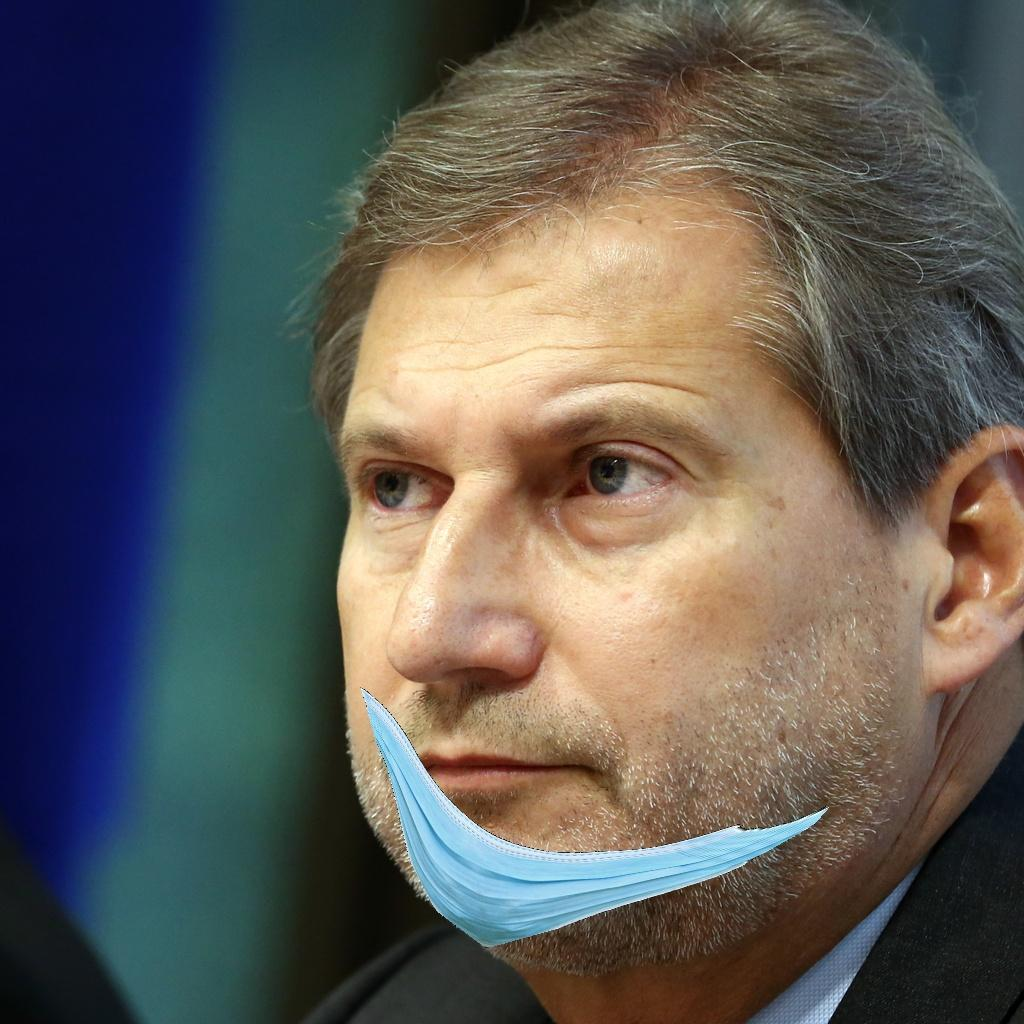Máscara Incorreta: (283, 286, 900, 954)
